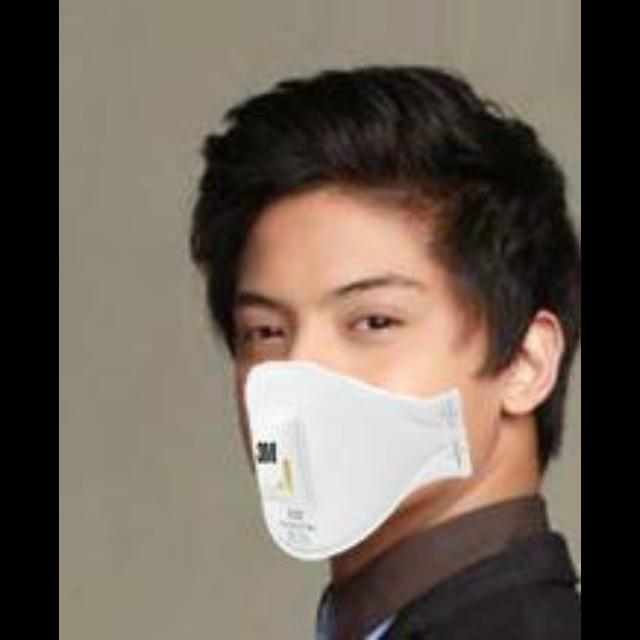suspicion: (207, 162, 518, 548)
